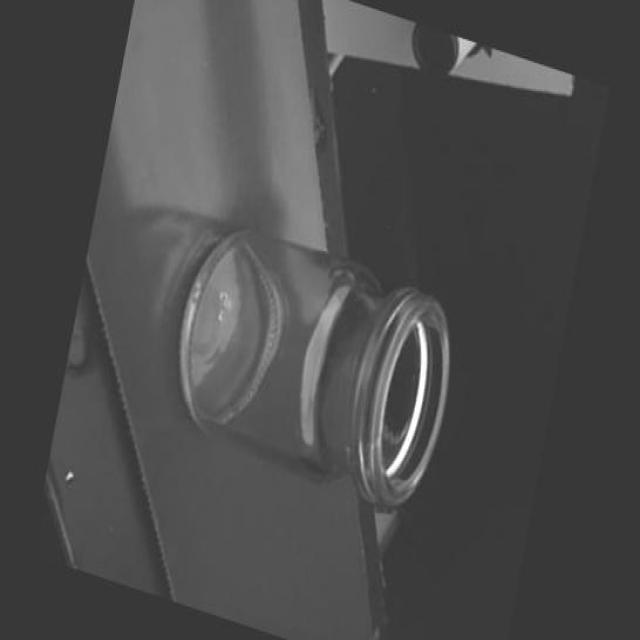defect: (342, 441, 353, 459)
glass: (150, 182, 478, 549)
